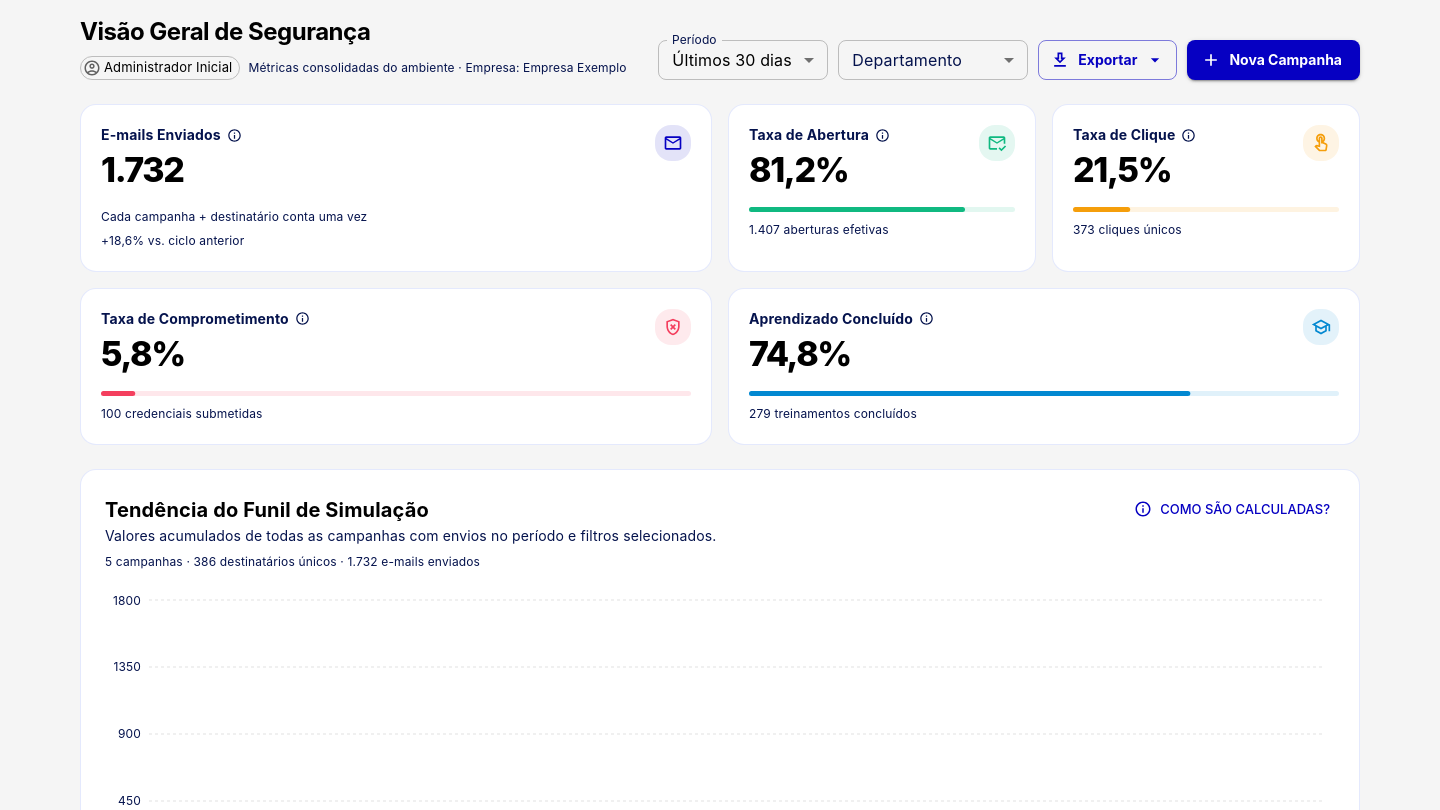
AdminDashboard — visão executiva essencial › preenche o protótipo com dados fictícios e aplica os filtros sem consultar a API
Expected: the text "Empresa Exemplo" is shown, [523,60,627,75]
Expected: the text "1.732" is shown, [101,149,184,190]
Step 1. Click the dropdown named "Departamento" → {"x": 933, "y": 60}, box [838,40,1028,80]
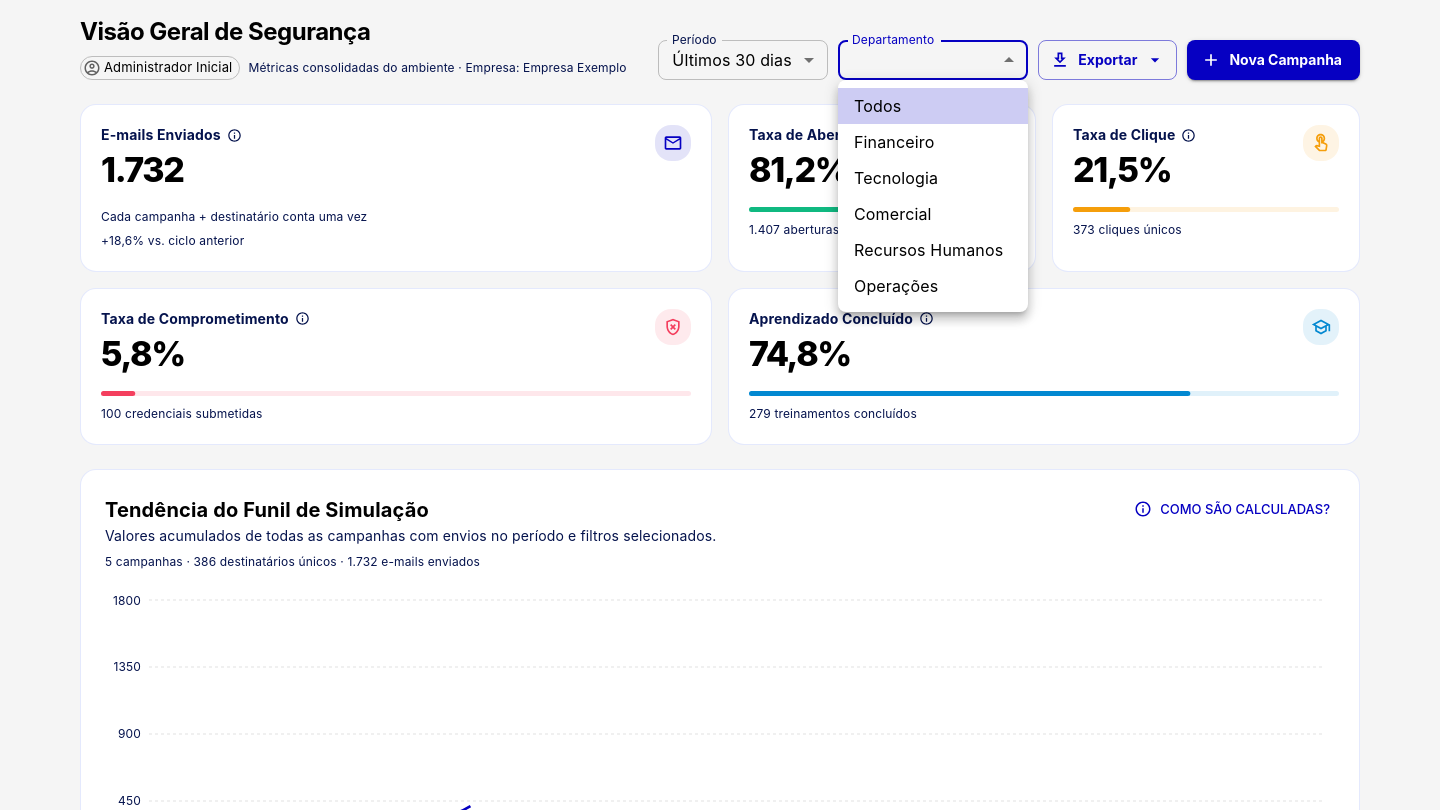
Step 2. Click the option "Comercial" → {"x": 893, "y": 214}, box [854,204,932,224]
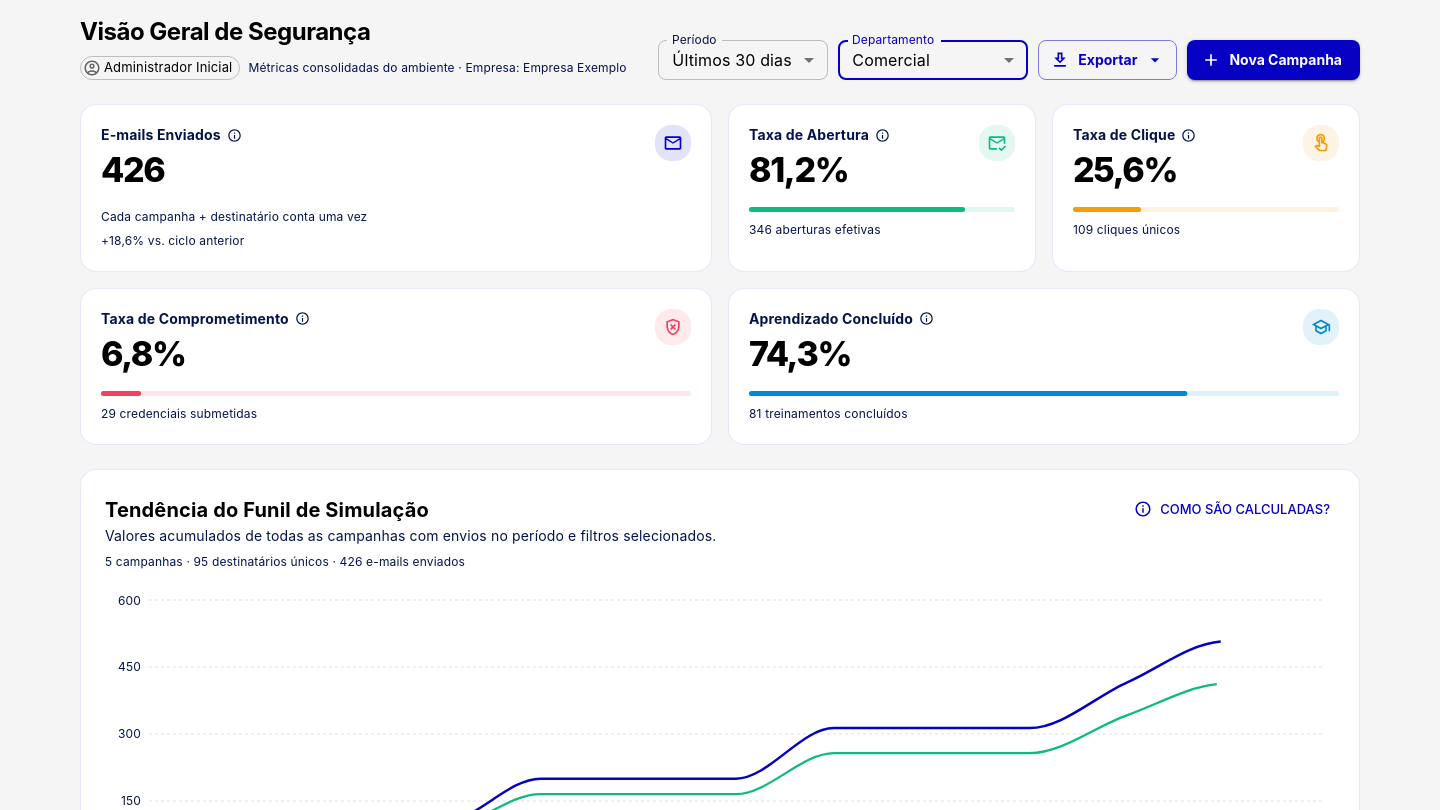
Result: the text "426" is shown at [101,149,164,190]
Step 3. Click the dropdown named "Período" → {"x": 732, "y": 60}, box [672,50,792,70]
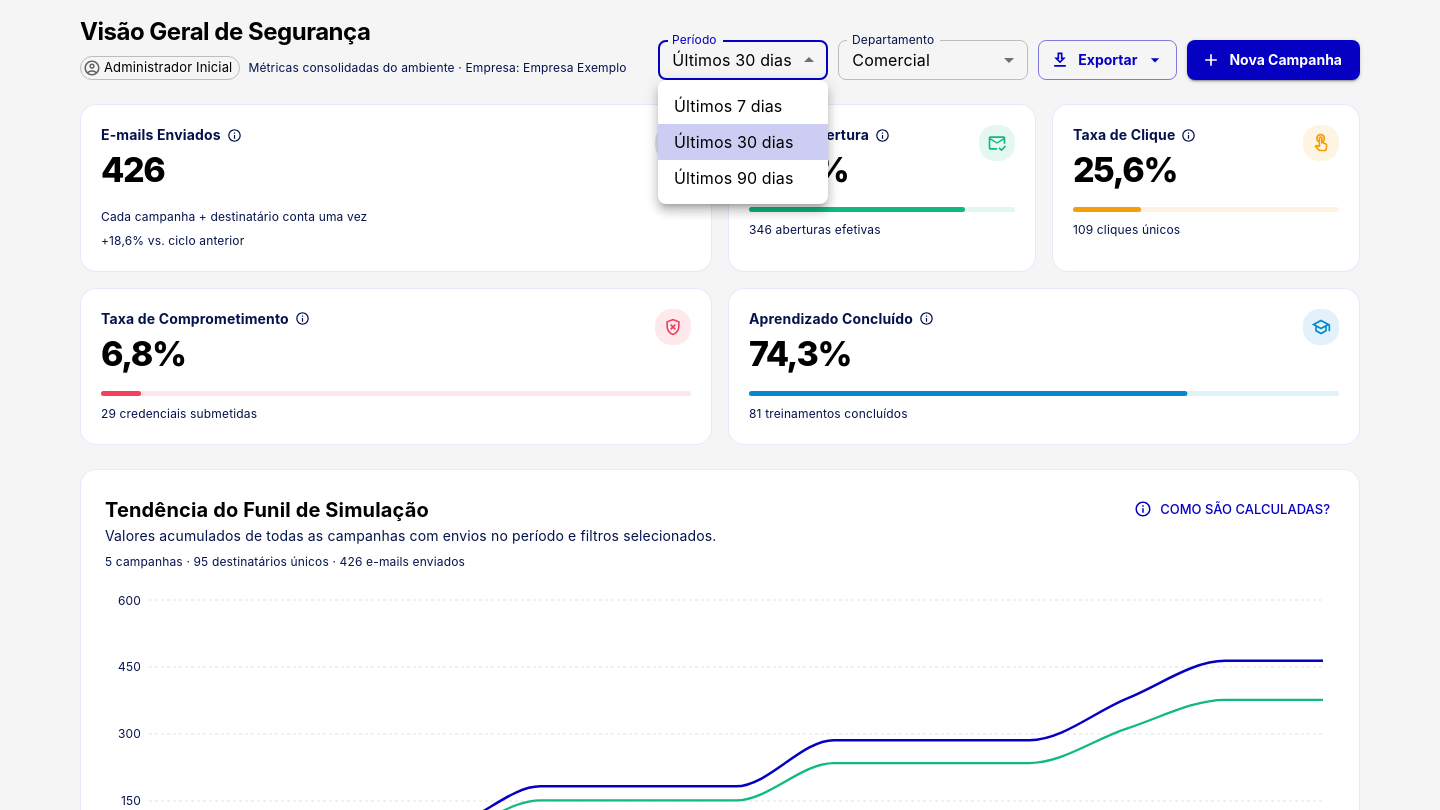
Step 4. Click the option "Últimos 7 dias" → {"x": 728, "y": 106}, box [674,96,782,116]
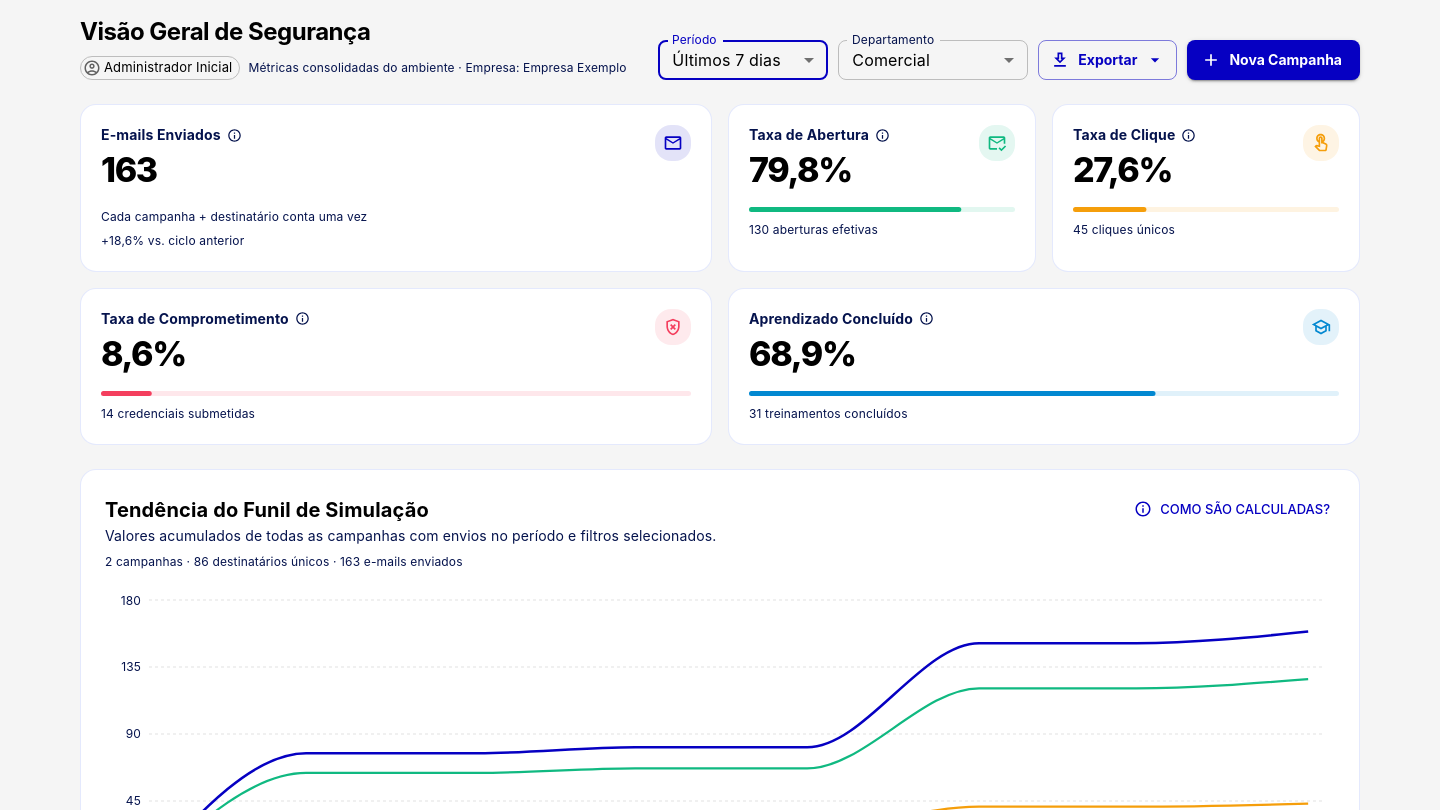
Result: the text "163" is shown at [101,149,157,190]
Result: the text "2 campanhas · 86 destinatários únicos · 163 e-mails enviados" is shown at [105,554,463,569]
